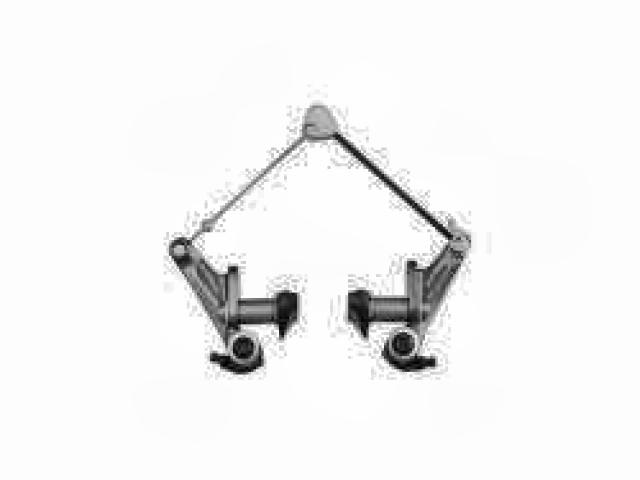rim_brake: (170, 221, 473, 380)
